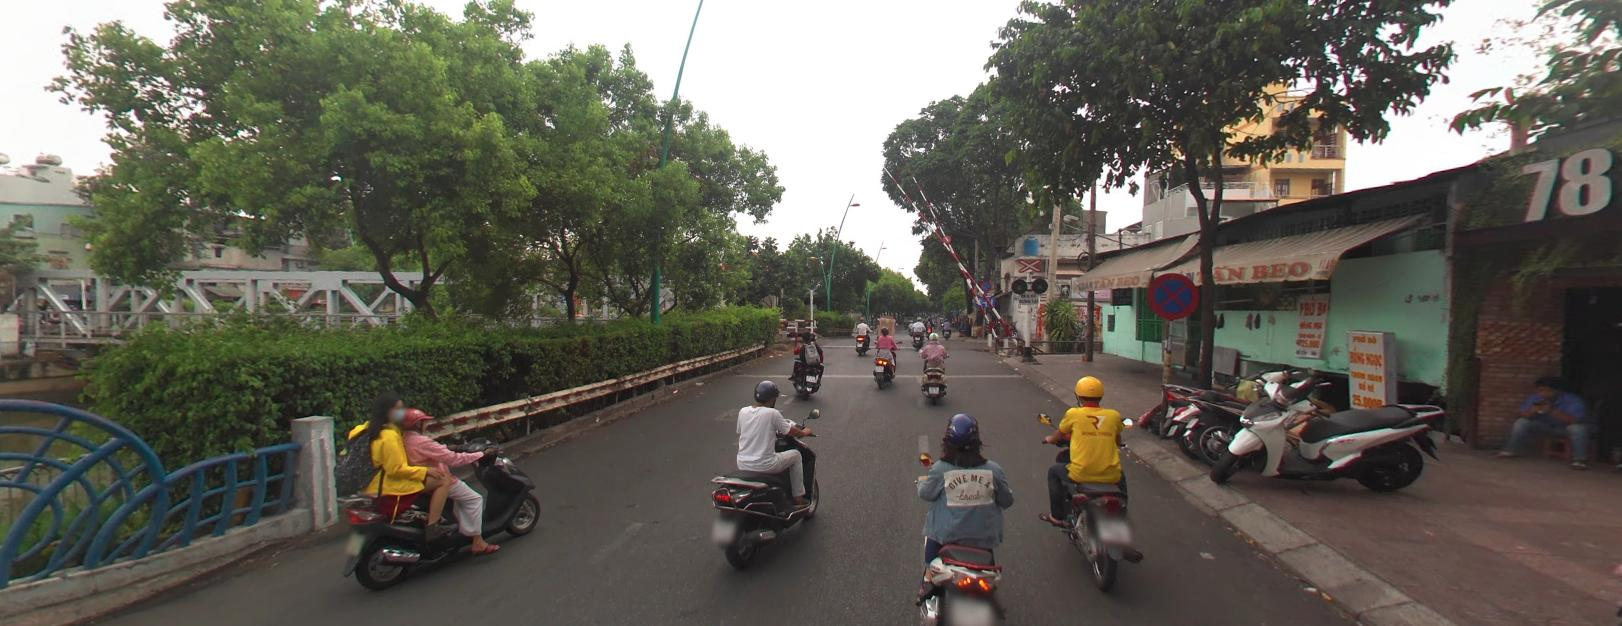Cam dung va do: (1146, 271, 1202, 318), (980, 279, 991, 289)
